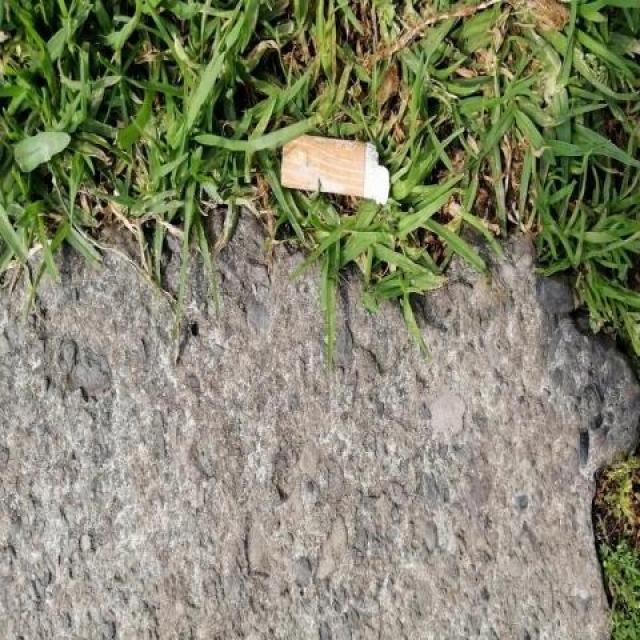non-organic waste: (275, 128, 393, 209)
